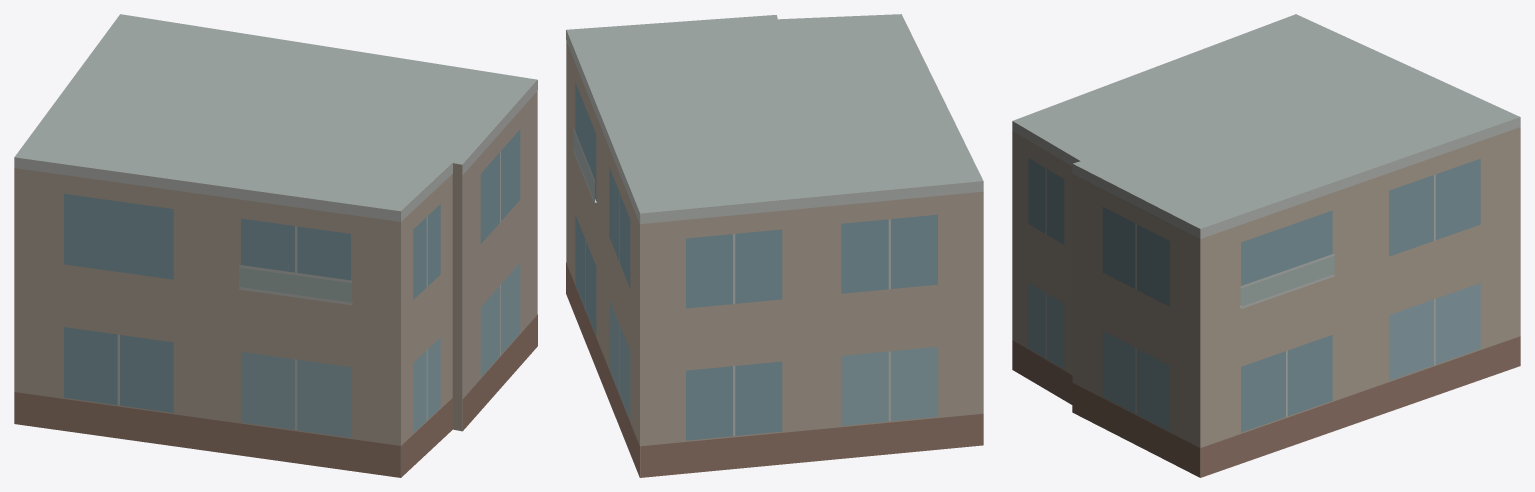
File: survey-upis-32677979.glb
3 views of the same model, side by side, from view 1: azimuth 30°, elevation 25°; view 2: azimuth 150°, elevation 25°; view 3: azimuth 270°, elevation 25° (orthographic). The views are drawn at different scales.
Parts seen in each view (by area): view 1: survey-upis-32677979.tmp; view 2: survey-upis-32677979.tmp; view 3: survey-upis-32677979.tmp.
Part boxes in pixels (x1,y1,x2,y2): survey-upis-32677979.tmp: [14, 14, 537, 477]; survey-upis-32677979.tmp: [566, 14, 983, 477]; survey-upis-32677979.tmp: [1012, 14, 1520, 477].
Bounding box in the file's own units: 11.32 × 6.1 × 11.3.
